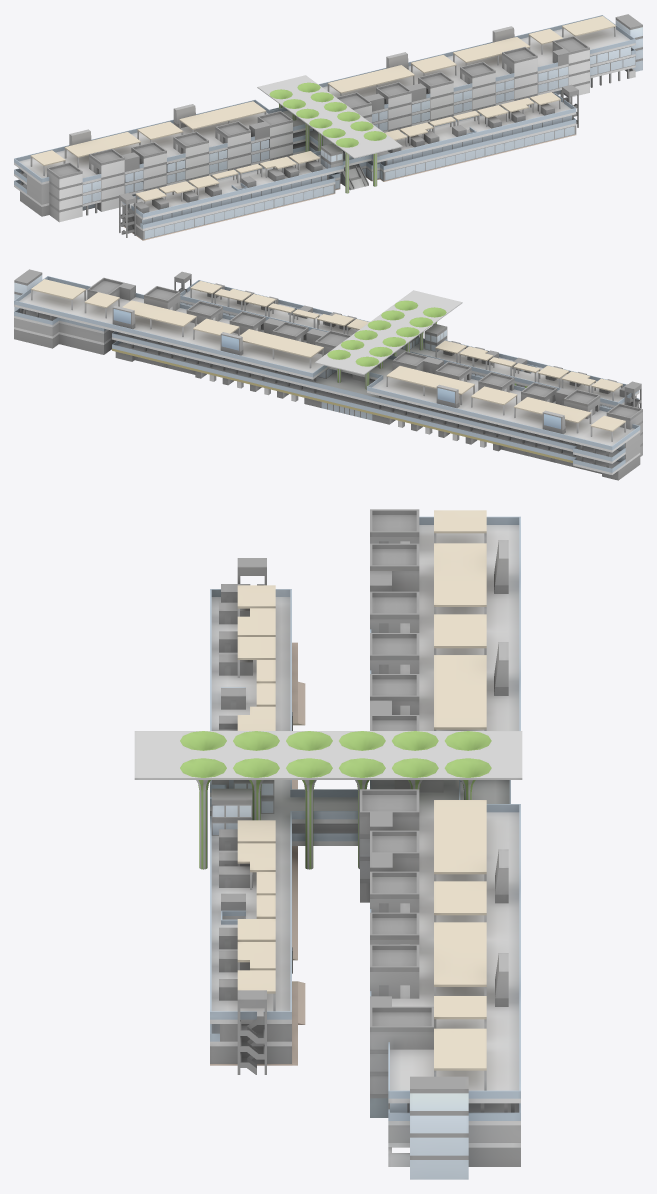
The picture shows the model from 3 angles, top to bottom: view 1: azimuth 30°, elevation 25°; view 2: azimuth 150°, elevation 25°; view 3: azimuth 270°, elevation 25°; orthographic projection. The views are drawn at different scales.
Visible parts, largest first — view 1: Formula_Day.001; view 2: Formula_Day.001; view 3: Formula_Day.001.
Part boxes in pixels (left/top/right/bottom): Formula_Day.001: left=14, top=14, right=642, bottom=240; Formula_Day.001: left=14, top=269, right=642, bottom=480; Formula_Day.001: left=134, top=509, right=522, bottom=1179.
Bounding box in the file's own units: 284 × 23.4 × 79.13.
Materials: 1 (1 with a texture image).
